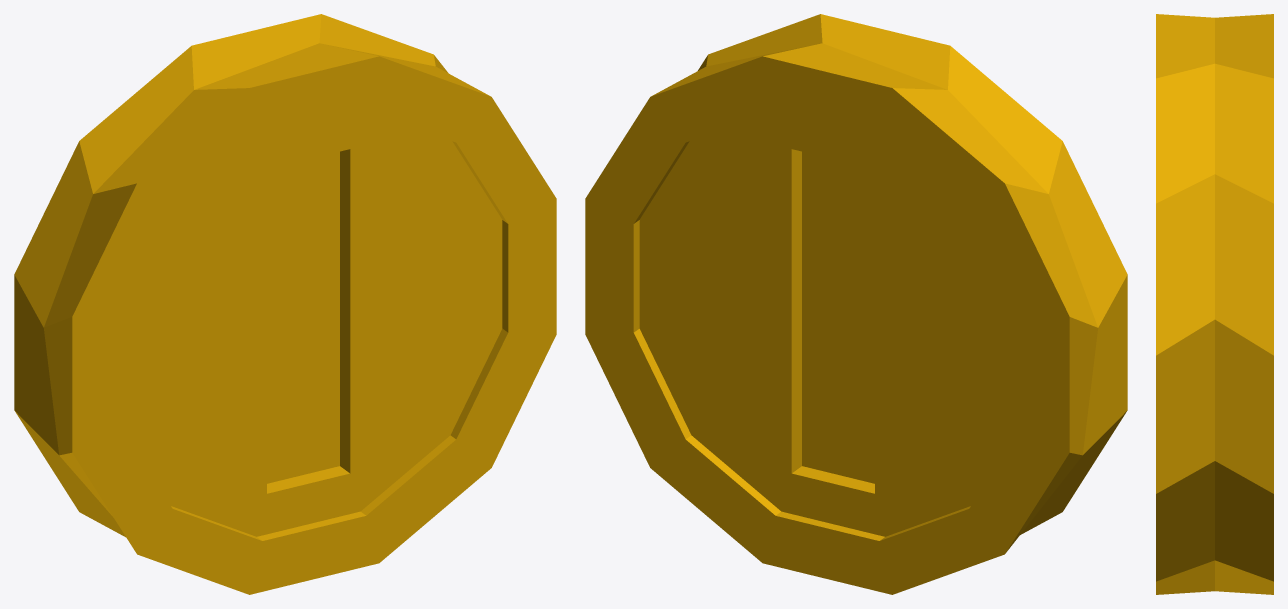
Rendered from Coin.fbx.
3 views of the same model, side by side, from view 1: azimuth 30°, elevation 25°; view 2: azimuth 150°, elevation 25°; view 3: azimuth 270°, elevation 25° (orthographic).
Parts seen in each view (by area): view 1: Coin; view 2: Coin; view 3: Coin.
Boxes of the visible parts, <box> form: Coin: <box>14,14,556,594</box>; Coin: <box>585,14,1127,594</box>; Coin: <box>1156,14,1273,594</box>.
Size of the model in its own units: 48.3 by 48.3 by 10.
